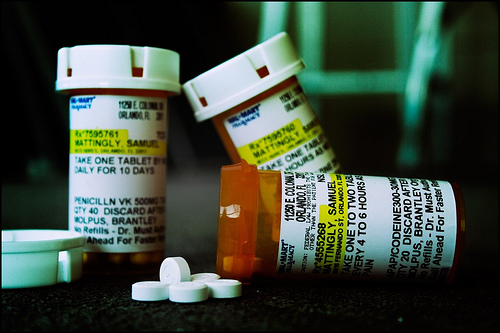pill bottle: (217, 163, 459, 281), (54, 45, 179, 265), (187, 33, 345, 189)
